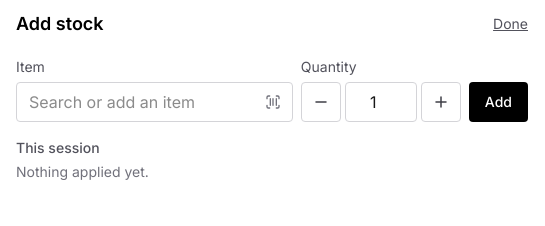
Test case: BatchEntry › keeps what's typed for the next entry while the previous commit is still saving
Type "Ri" into the dropdown labelled "Item" at (154, 102), box [16,82,293,122]
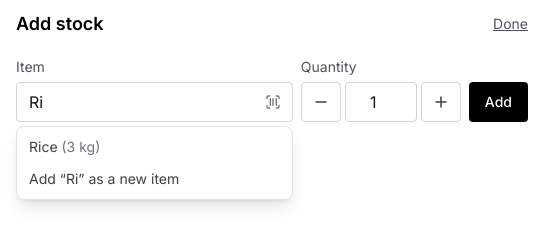
Press the mouse on the option "Rice (3 kg)" at (65, 146), box [29,138,100,155]
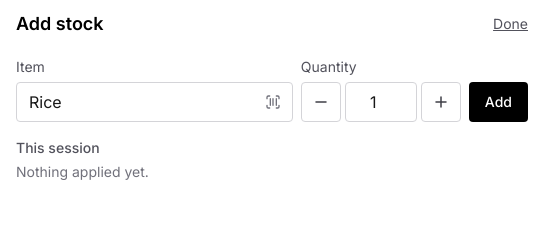
Click the button "Add" at (498, 102), box [469,82,528,122]
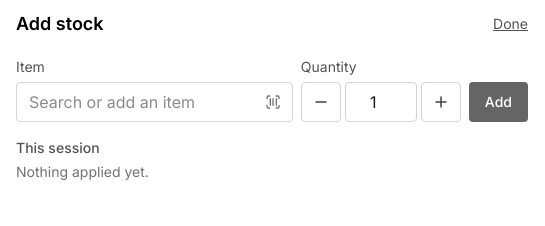
Type "Beans" into the dropdown labelled "Item" at (154, 102), box [16,82,293,122]
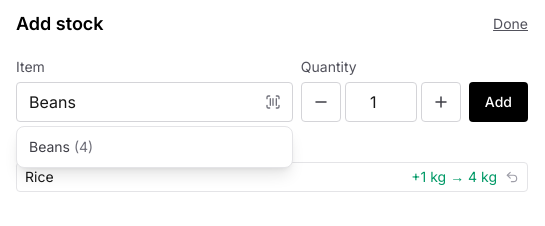
Expected: the text "Rice" is shown, [25,167,54,187]
